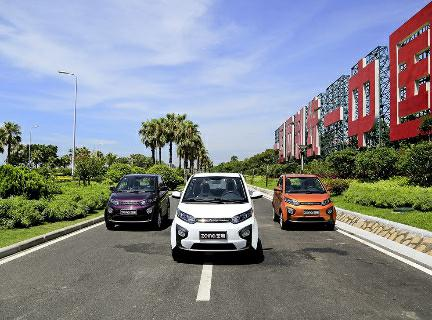众泰-芝麻: (169, 167, 267, 267), (273, 167, 345, 230), (99, 169, 167, 232)
